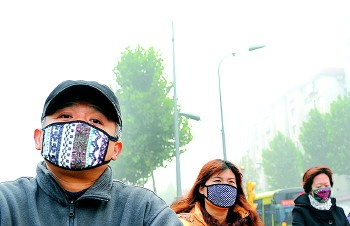Mask: (44, 95, 121, 173)
